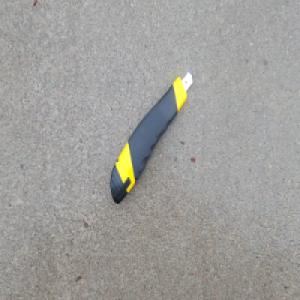Cutter: (107, 66, 196, 207)
